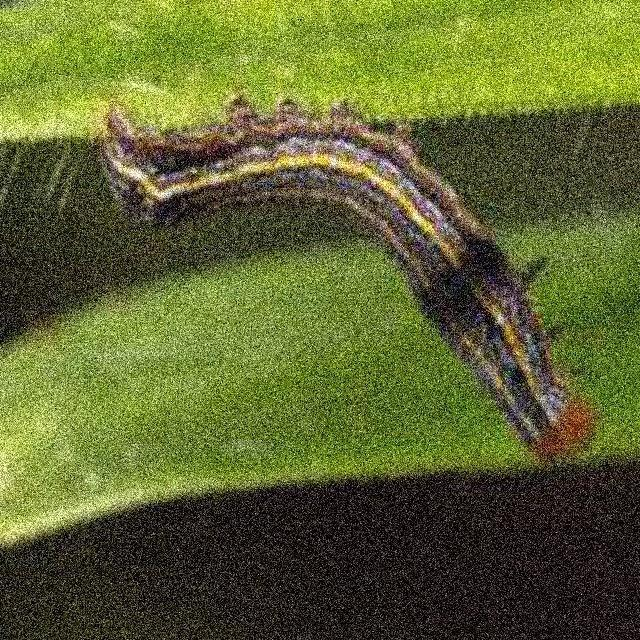gusano_cogollero: (99, 90, 600, 468)
